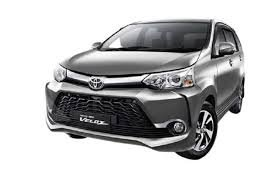mobil: (42, 13, 249, 161)
